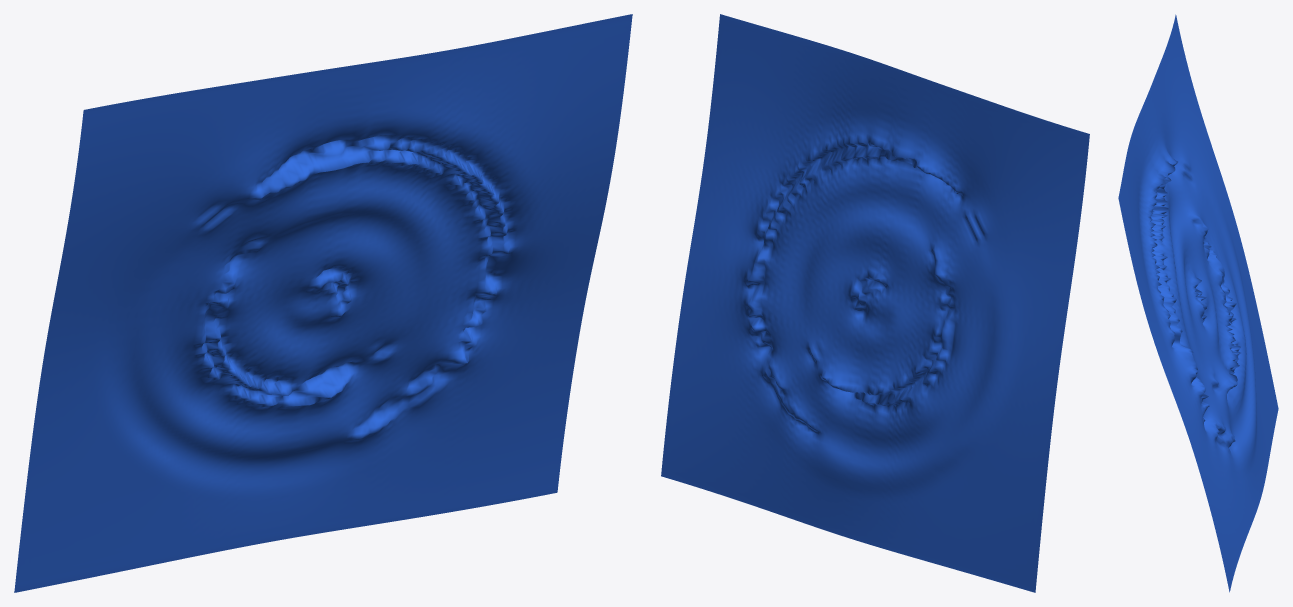
Rendered from droplet_SFS.glb.
3 views of the same model, side by side, from view 1: azimuth 30°, elevation 25°; view 2: azimuth 150°, elevation 25°; view 3: azimuth 270°, elevation 25° (orthographic). The views are drawn at different scales.
Parts seen in each view (by area): view 1: main-sfs-droplet; view 2: main-sfs-droplet; view 3: main-sfs-droplet.
Boxes of the visible parts, x1,y1,x2,y2 form: main-sfs-droplet: (14,14,632,592); main-sfs-droplet: (661,14,1089,592); main-sfs-droplet: (1118,14,1278,592).
Bounding box in the file's own units: 1.25 × 1.25 × 0.4599.
